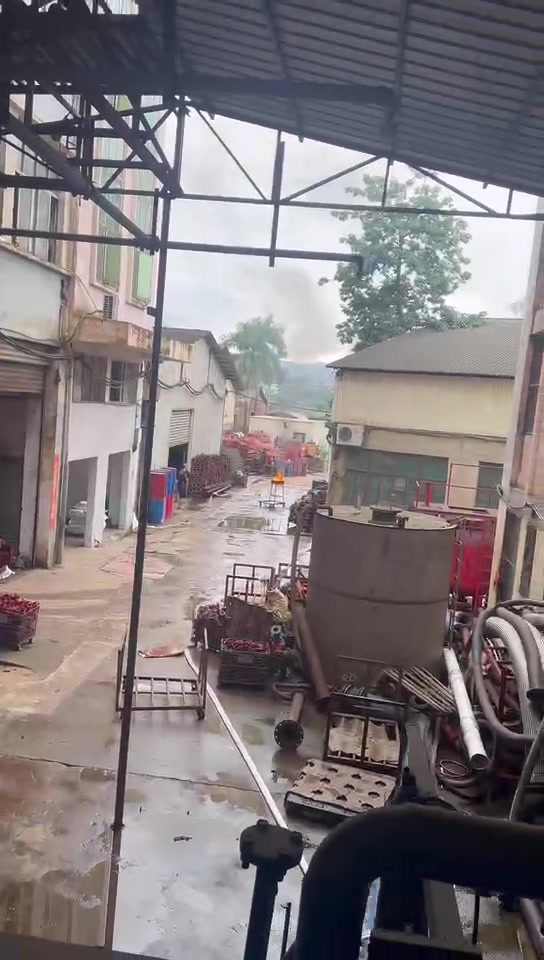fire: (270, 471, 285, 481)
